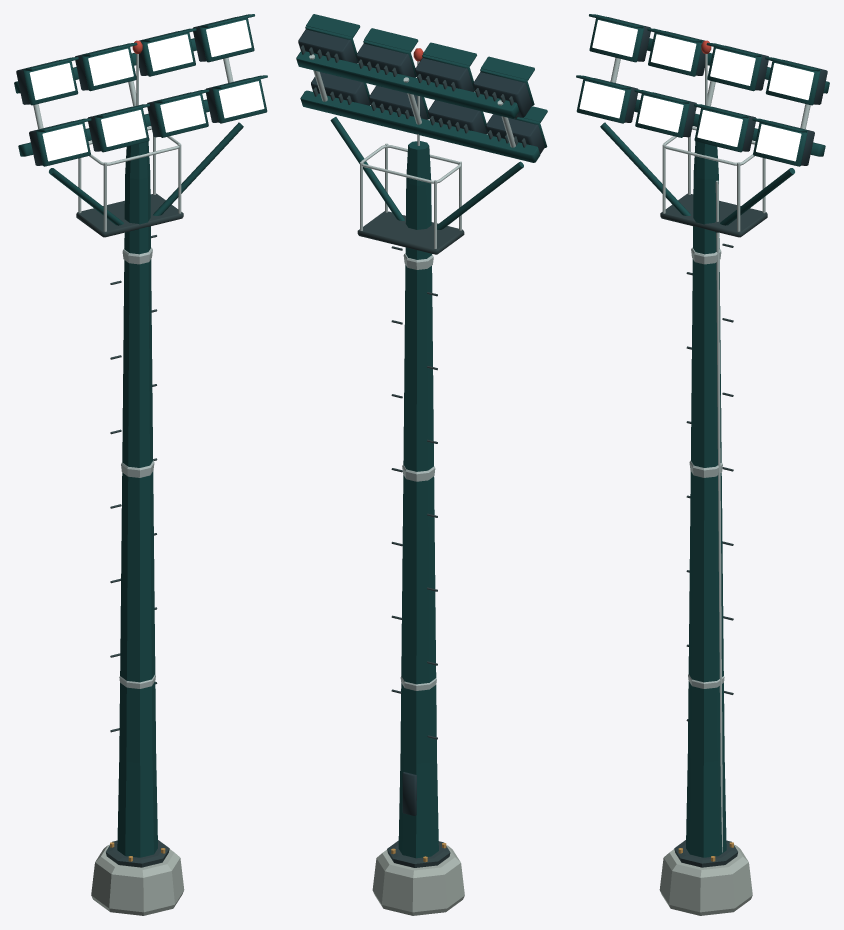
Rendered from floodlight_tower.glb.
3 views of the same model, side by side, from view 1: azimuth 30°, elevation 25°; view 2: azimuth 150°, elevation 25°; view 3: azimuth 330°, elevation 25° (orthographic).
Parts seen in each view (by area): view 1: floodlight_tower_Deep_Jade, floodlight_tower_Mat_FloodGlow, floodlight_tower_Concrete, floodlight_tower_Silver, floodlight_tower_Iron, floodlight_tower_Graphite; view 2: floodlight_tower_Deep_Jade, floodlight_tower_Graphite, floodlight_tower_Iron, floodlight_tower_Concrete, floodlight_tower_Silver; view 3: floodlight_tower_Deep_Jade, floodlight_tower_Mat_FloodGlow, floodlight_tower_Silver, floodlight_tower_Concrete, floodlight_tower_Iron, floodlight_tower_Graphite.
Part boxes in pixels (x1,y1,x2,y2): floodlight_tower_Deep_Jade: [14, 14, 267, 857]; floodlight_tower_Mat_FloodGlow: [29, 20, 264, 161]; floodlight_tower_Concrete: [91, 844, 184, 915]; floodlight_tower_Silver: [33, 54, 233, 688]; floodlight_tower_Iron: [76, 193, 183, 867]; floodlight_tower_Graphite: [16, 16, 249, 165]; floodlight_tower_Deep_Jade: [296, 14, 547, 858]; floodlight_tower_Graphite: [298, 29, 544, 815]; floodlight_tower_Iron: [300, 45, 526, 867]; floodlight_tower_Concrete: [372, 845, 464, 915]; floodlight_tower_Silver: [309, 54, 515, 690]; floodlight_tower_Deep_Jade: [576, 14, 829, 857]; floodlight_tower_Mat_FloodGlow: [579, 20, 814, 161]; floodlight_tower_Silver: [610, 54, 810, 852]; floodlight_tower_Concrete: [659, 844, 752, 915]; floodlight_tower_Iron: [660, 193, 767, 867]; floodlight_tower_Graphite: [594, 16, 827, 165].
Size of the model in its own units: 2.78 by 9.69 by 0.8935.
